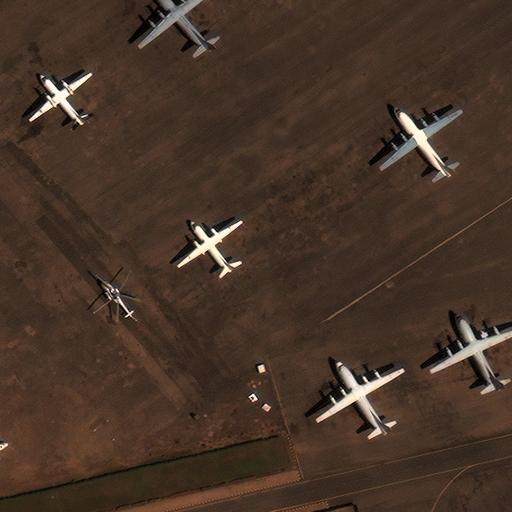Military Transport: (314, 359, 402, 435), (428, 314, 512, 391), (377, 105, 460, 177), (135, 0, 216, 51), (176, 219, 239, 272), (27, 72, 90, 124)
